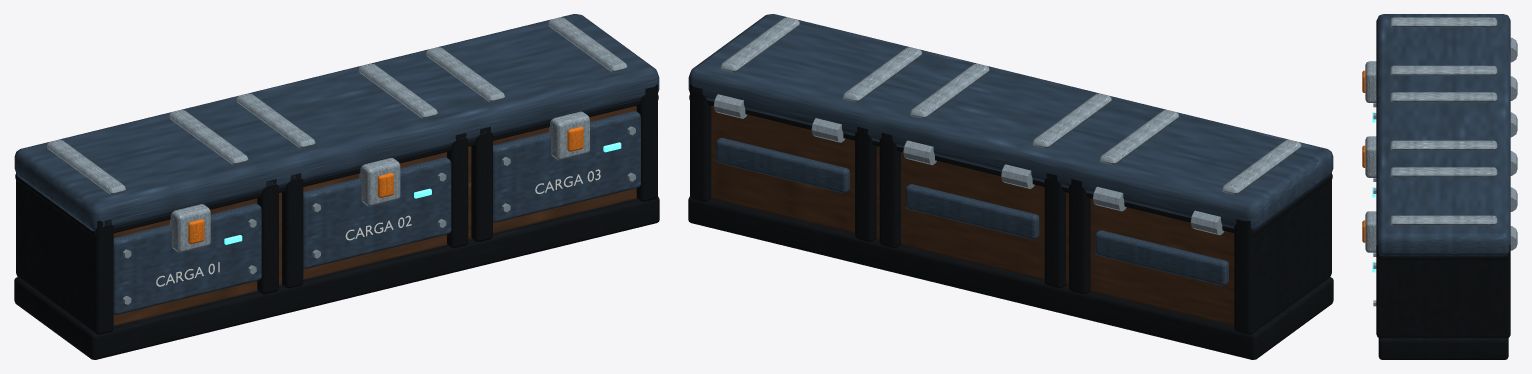
The model's file is bau-triplo.glb.
The picture shows the model from 3 angles, left to right: view 1: azimuth 30°, elevation 25°; view 2: azimuth 150°, elevation 25°; view 3: azimuth 270°, elevation 25°; orthographic projection. The views are drawn at different scales.
Visible parts, largest first — view 1: Painel frontal.006, Base do baú.003, Dobradiça traseira.012, Corpo texturizado.003, Trava.006, CARGA 01.003; view 2: Painel frontal.006, Base do baú.003, Corpo texturizado.003, Dobradiça traseira.012; view 3: Painel frontal.006, Base do baú.003, Dobradiça traseira.012, Trava.006.
Part boxes in pixels (bbox=[...]): Painel frontal.006: bbox=[14, 14, 659, 314]; Base do baú.003: bbox=[14, 84, 659, 359]; Dobradiça traseira.012: bbox=[46, 17, 635, 304]; Corpo texturizado.003: bbox=[113, 106, 636, 325]; Trava.006: bbox=[188, 126, 583, 244]; CARGA 01.003: bbox=[156, 169, 600, 286]; Painel frontal.006: bbox=[688, 14, 1333, 285]; Base do baú.003: bbox=[688, 84, 1333, 359]; Corpo texturizado.003: bbox=[711, 106, 1234, 325]; Dobradiça traseira.012: bbox=[713, 17, 1301, 235]; Painel frontal.006: bbox=[1376, 14, 1510, 256]; Base do baú.003: bbox=[1376, 244, 1510, 359]; Dobradiça traseira.012: bbox=[1365, 17, 1517, 306]; Trava.006: bbox=[1362, 70, 1365, 242].
Size of the model in its own units: 3.72 by 1.01 by 1.09.
Materials: 7 (5 with a texture image).
